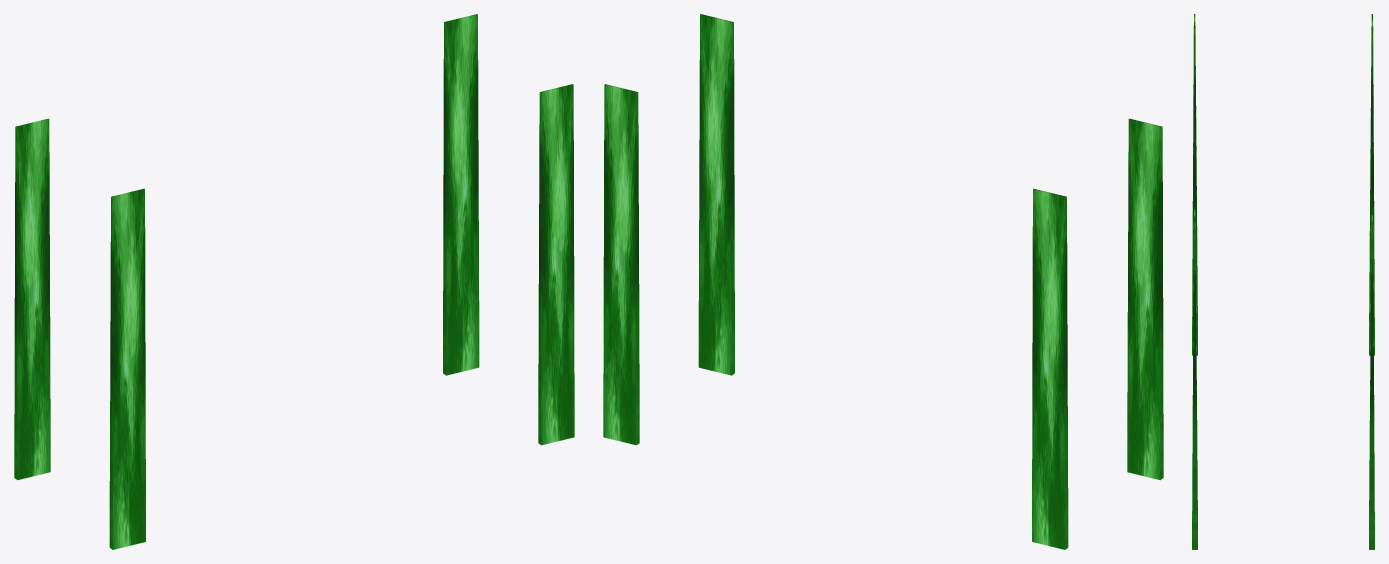
Rendered from nclava.glb.
3 views of the same model, side by side, from view 1: azimuth 30°, elevation 25°; view 2: azimuth 150°, elevation 25°; view 3: azimuth 270°, elevation 25° (orthographic). The views are drawn at different scales.
Visible parts, largest first — view 1: nclava; view 2: nclava; view 3: nclava.
Boxes of the visible parts, left/top/right/bottom form: nclava: left=14, top=14, right=574, bottom=549; nclava: left=603, top=14, right=1163, bottom=549; nclava: left=1192, top=14, right=1374, bottom=549.
Size of the model in its own units: 2963 by 2158 by 1095.
2 materials, 2 textured.
